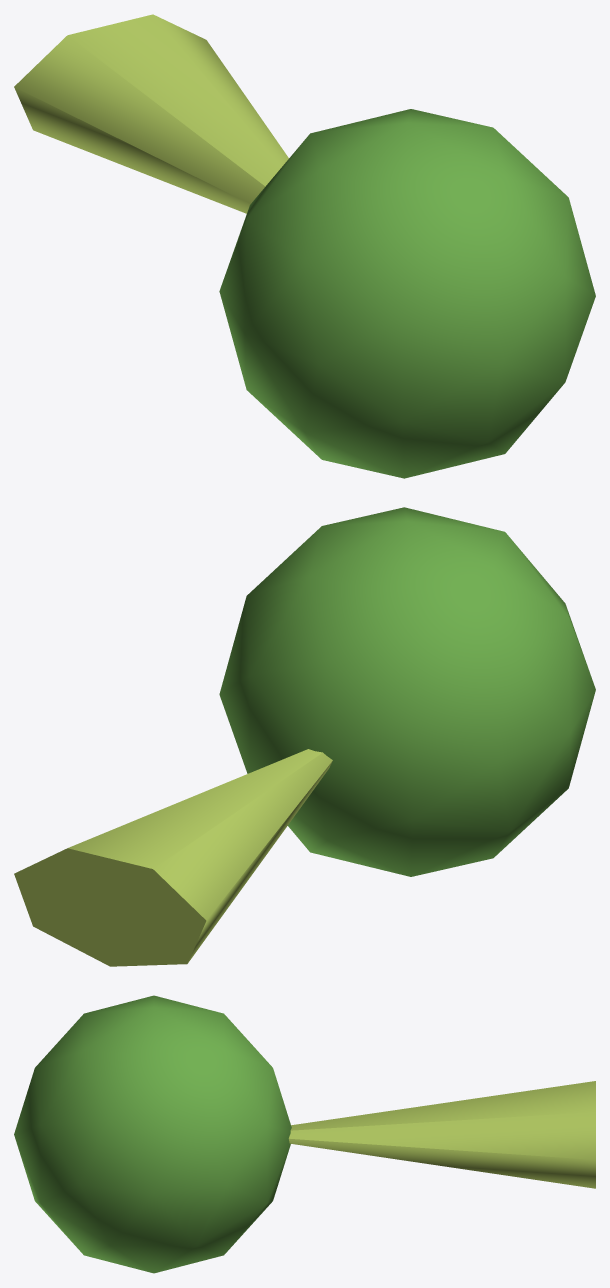
File: wpn_r_08.glb
The picture shows the model from 3 angles, top to bottom: view 1: azimuth 30°, elevation 25°; view 2: azimuth 150°, elevation 25°; view 3: azimuth 270°, elevation 25°; orthographic projection. The views are drawn at different scales.
Visible parts, largest first — view 1: projectile_core, projectile_trail; view 2: projectile_core, projectile_trail; view 3: projectile_core, projectile_trail.
Boxes of the visible parts, box(x1,y1,x2,y2) form: projectile_core: box(219, 109, 595, 478); projectile_trail: box(14, 14, 288, 213); projectile_core: box(219, 507, 595, 876); projectile_trail: box(14, 749, 332, 966); projectile_core: box(14, 995, 291, 1273); projectile_trail: box(288, 1081, 595, 1188).
Bounding box in the file's own units: 0.38 × 0.38 × 0.79.
